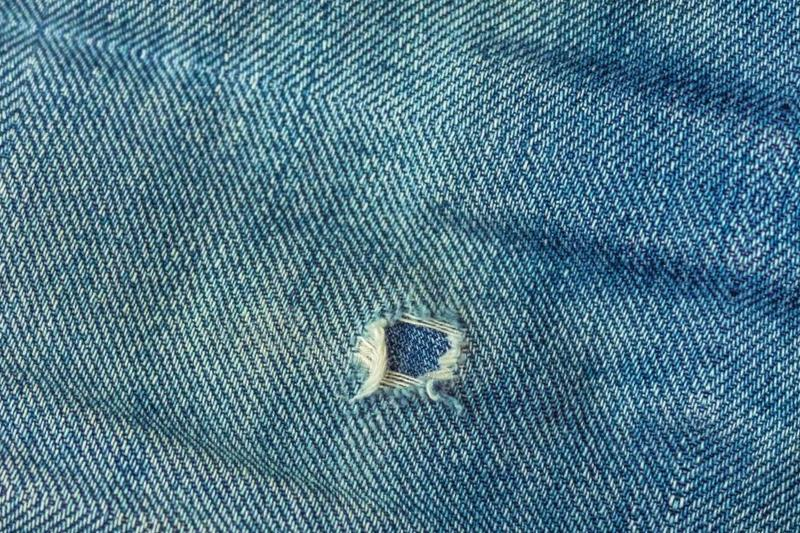hole: (339, 310, 476, 410)
